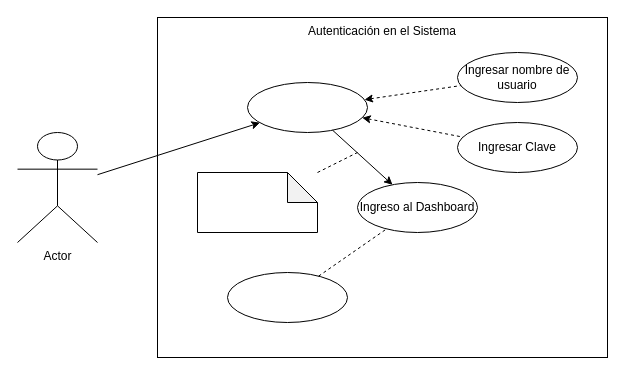
Image size: 625x375. Some labels were removed from this diagram. The shapes that lost their labels are listed below. From the top down, each one's box as (x1, y1, x2, y2) in pixels, then its label:
(246, 82, 368, 132): Iniciar Sesión
(196, 172, 318, 232): Credenciales incorrectas
(226, 272, 348, 322): Cerrar Sesión
